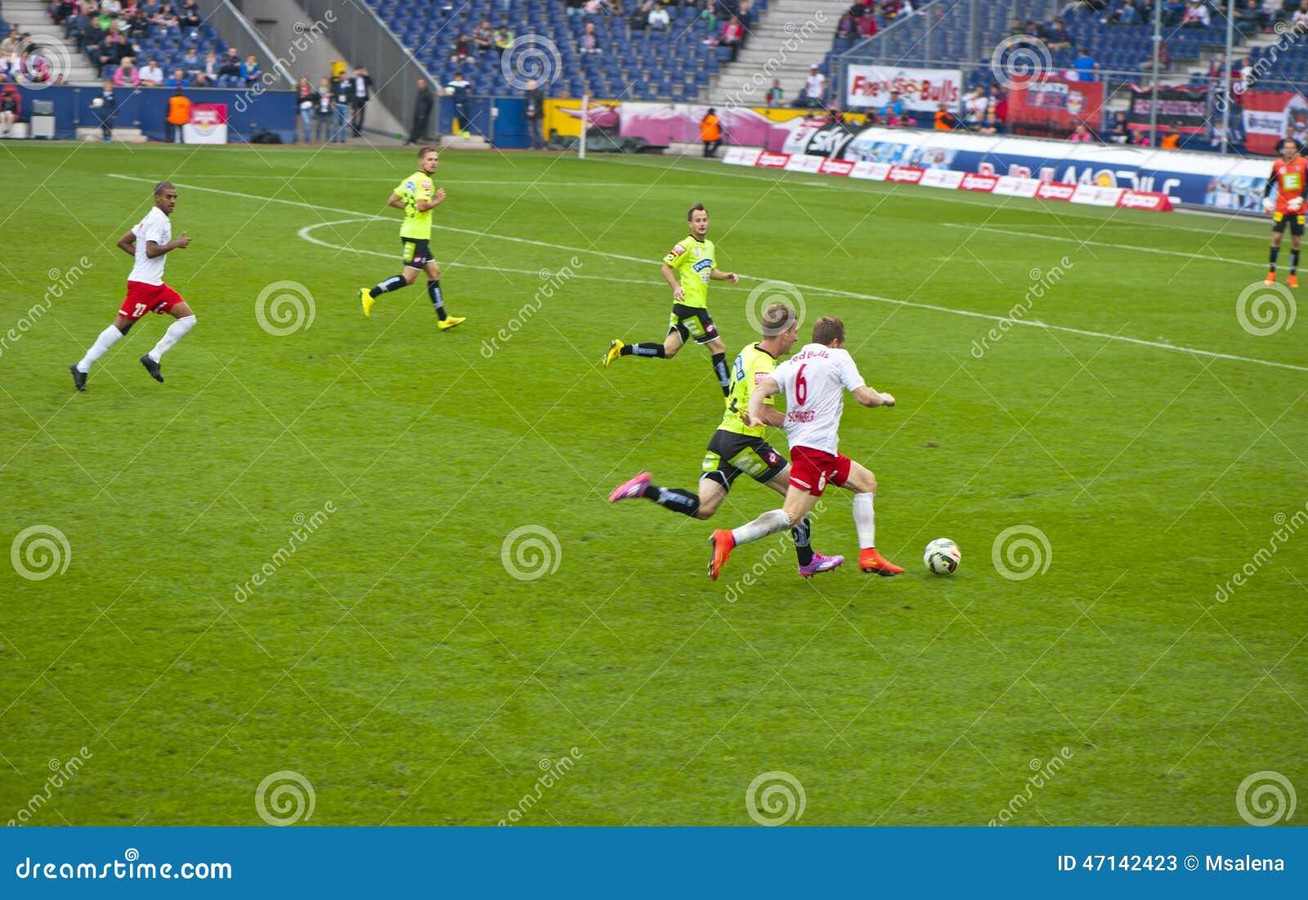ballon_football: (924, 533, 963, 578)
